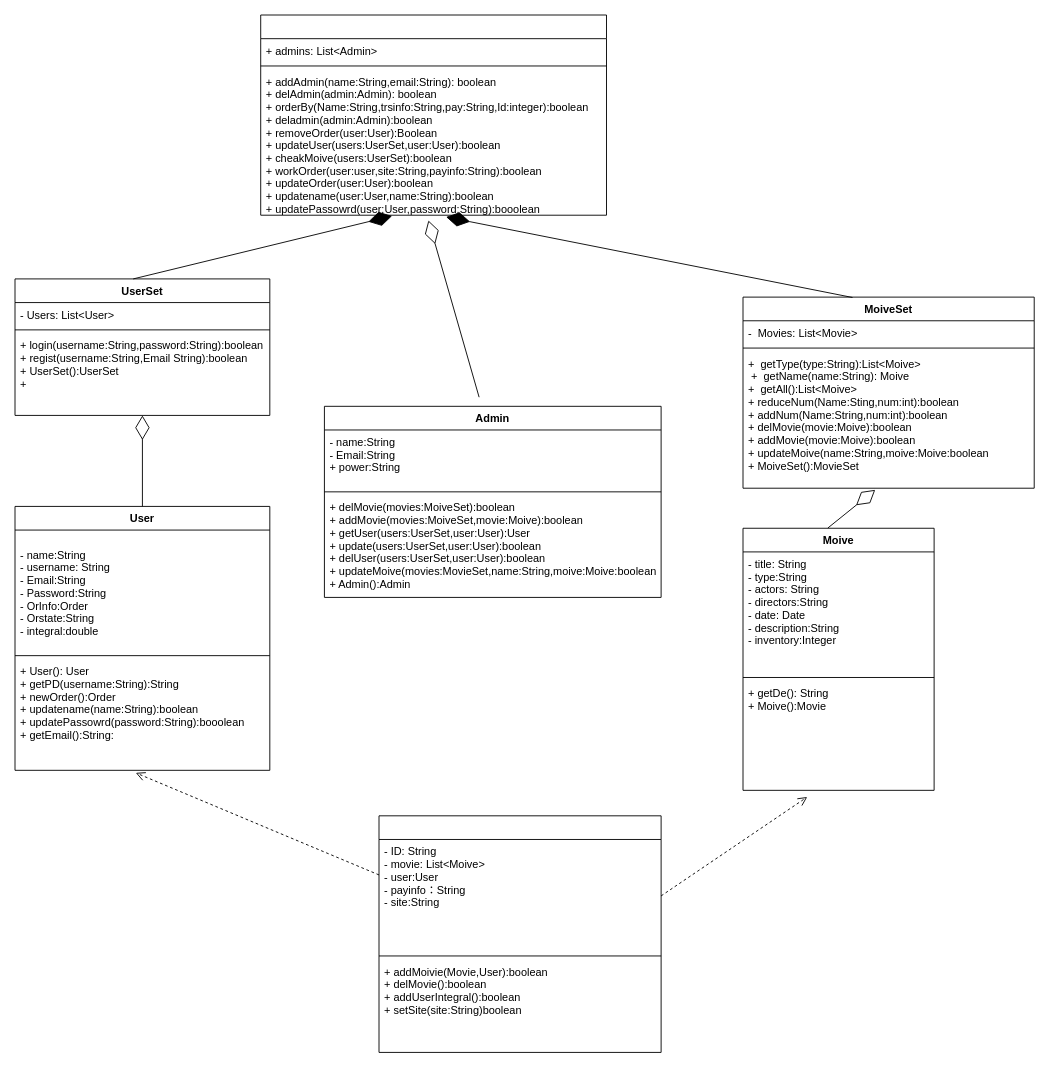
The diagram is 1049 pixels wide and 1067 high, and some of its shapes have lost their labels. Here are the shapes that lost their labels. From the top down, the box of each, then its label:
(260, 14, 607, 215): System
(378, 815, 661, 1052): Order
